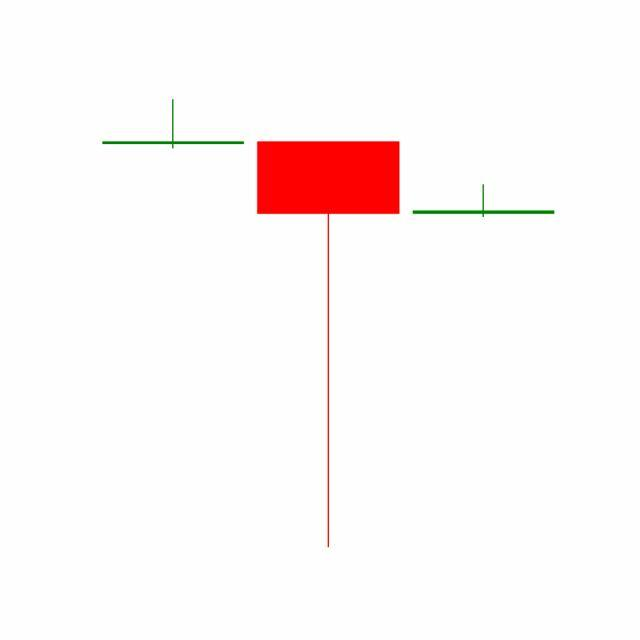Gravestone Doji: (406, 184, 562, 218)
